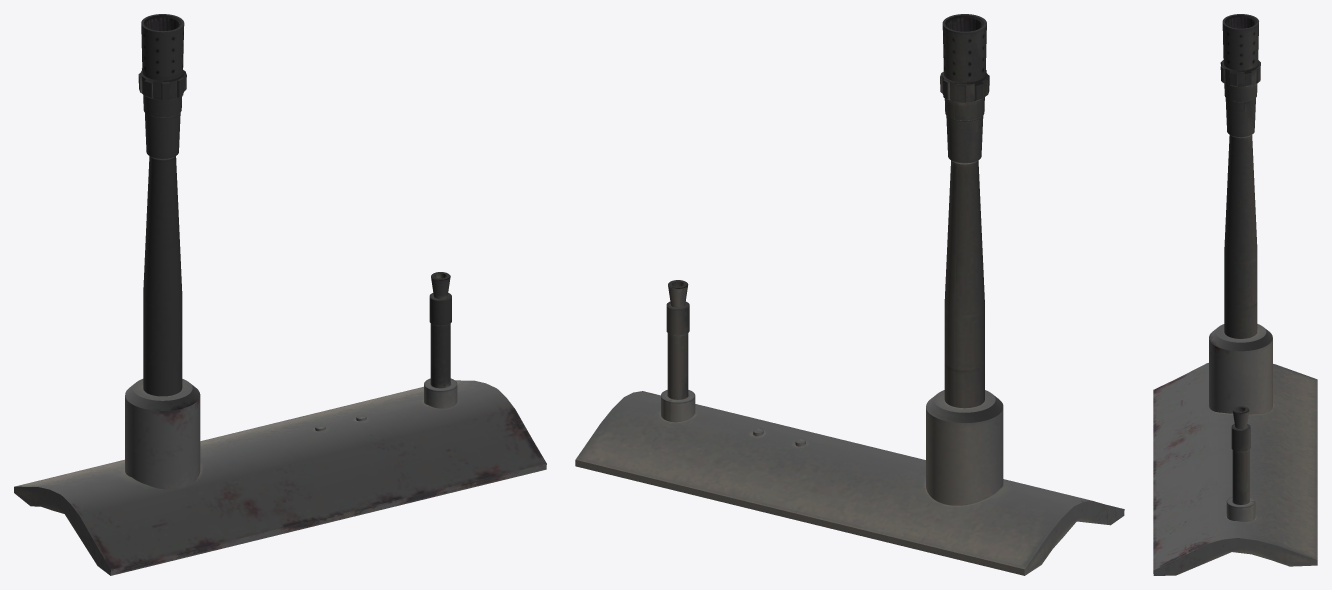
Rendered from Gun_03.glb.
3 views of the same model, side by side, from view 1: azimuth 30°, elevation 25°; view 2: azimuth 150°, elevation 25°; view 3: azimuth 270°, elevation 25° (orthographic). The views are drawn at different scales.
Visible parts, largest first — view 1: set_0_group_0; view 2: set_0_group_0; view 3: set_0_group_0.
Part boxes in pixels (x1,y1,x2,y2): set_0_group_0: (14,14,546,575); set_0_group_0: (575,14,1124,575); set_0_group_0: (1153,14,1317,575).
Bounding box in the file's own units: 0.8905 × 0.9566 × 0.3425.
Materials: 1 (1 with a texture image).
